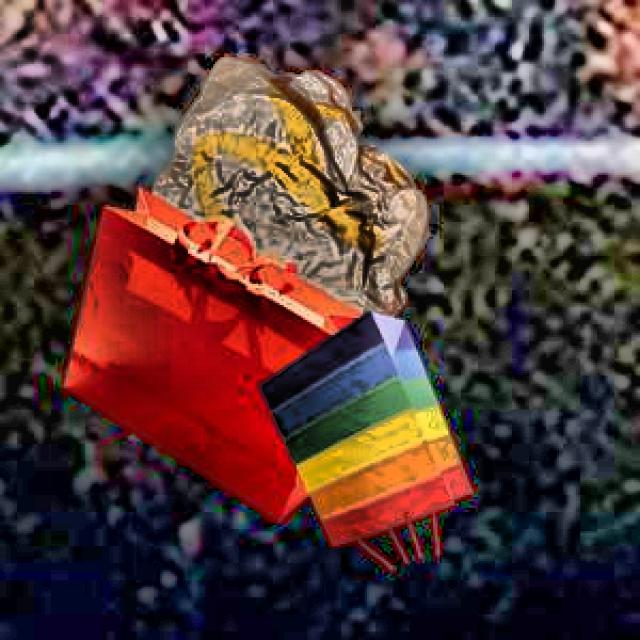Paper-bag: (55, 190, 379, 544), (129, 53, 444, 341), (252, 301, 480, 559)
